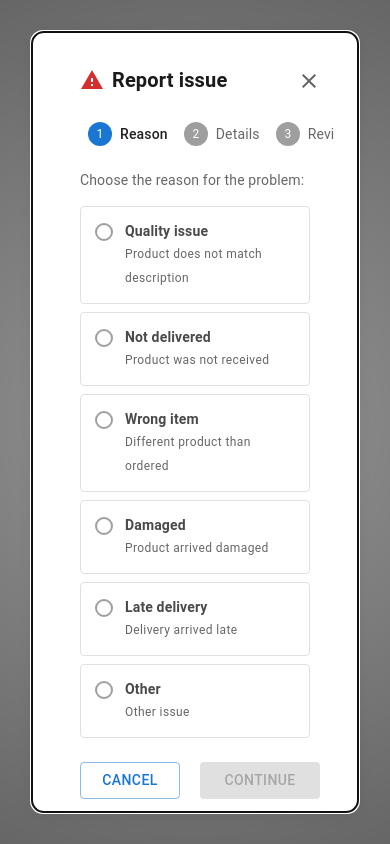
Test case: DisputeModal › keeps the reason step Continue button disabled until a reason is chosen
Expected: the button "Continue" is disabled, [200,762,320,799]
Click the text "Quality issue": (167, 231) [125,223,208,239]
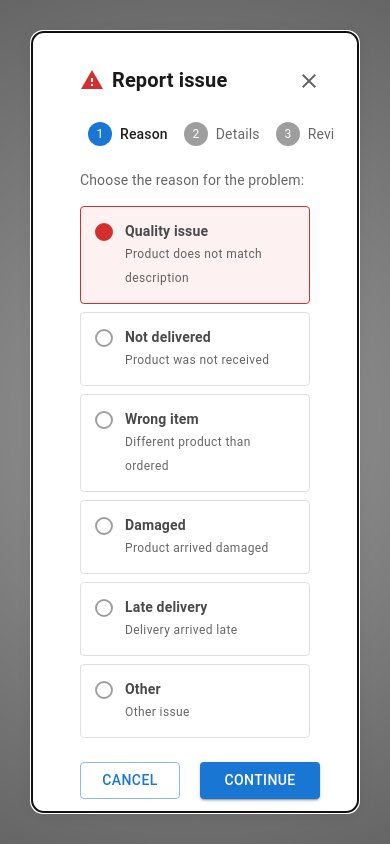
Result: the button "Continue" is enabled at [200,762,320,799]
